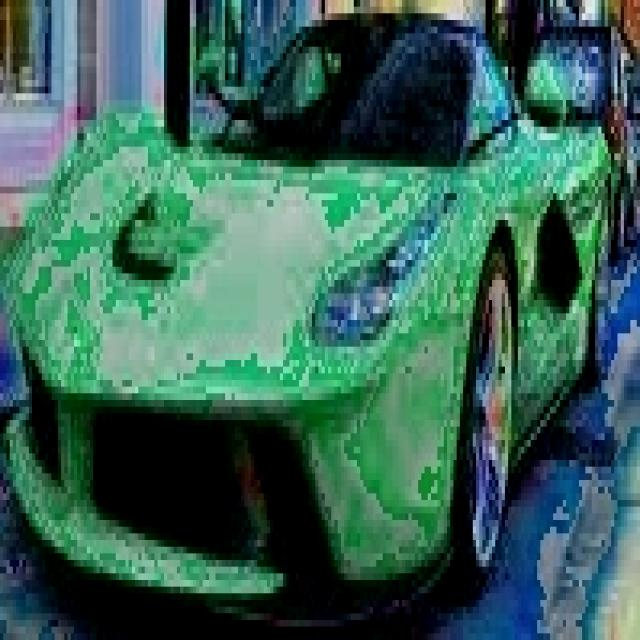green: (5, 13, 612, 640)
